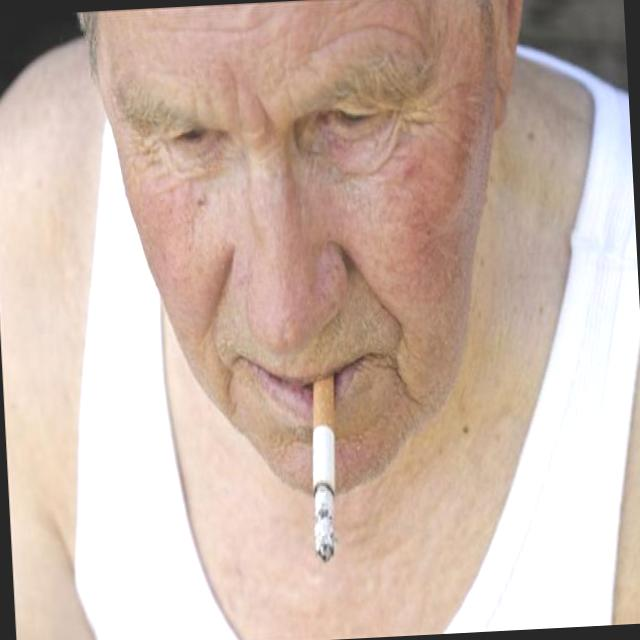smoke: (298, 354, 351, 577)
